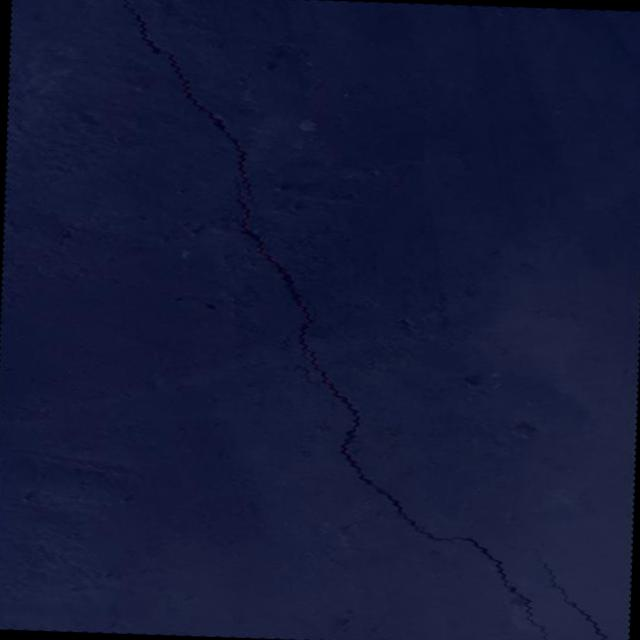crack: (69, 171, 562, 640), (116, 0, 265, 211), (495, 539, 612, 640), (6, 218, 78, 252)
